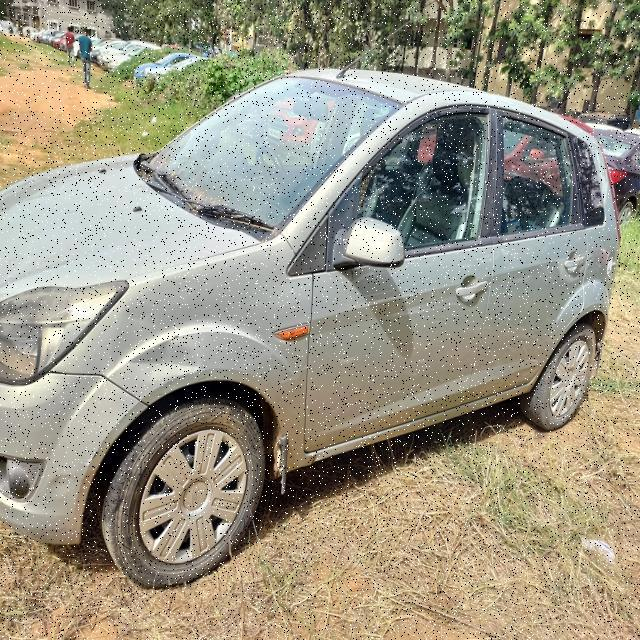fender-dent: (111, 284, 310, 430)
front-bumper-dent: (0, 372, 108, 544)
